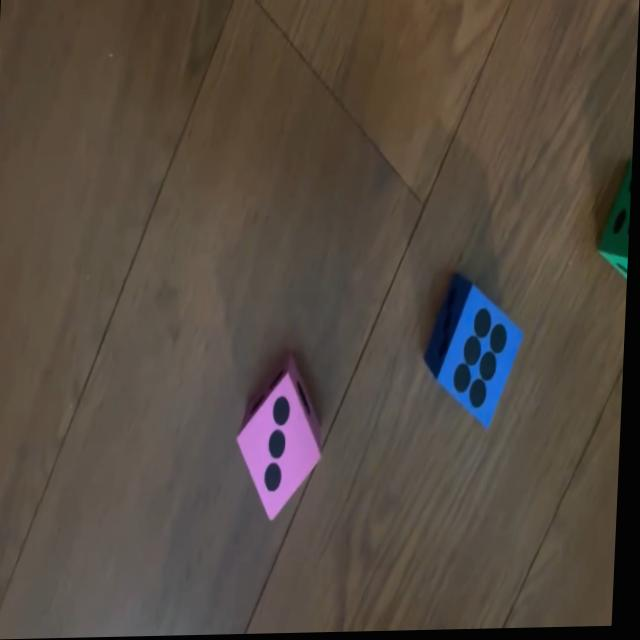blue_block: (427, 284, 524, 435)
